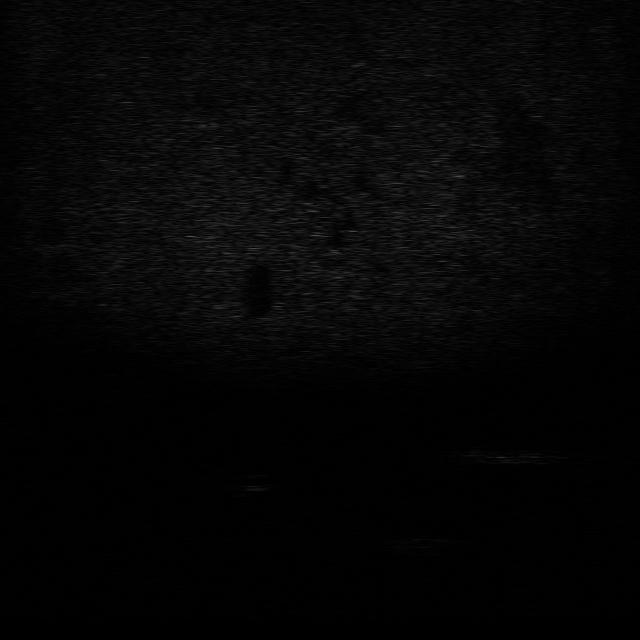ball: (452, 444, 572, 468)
circle cage: (392, 524, 468, 560)
human body: (381, 534, 461, 560)
